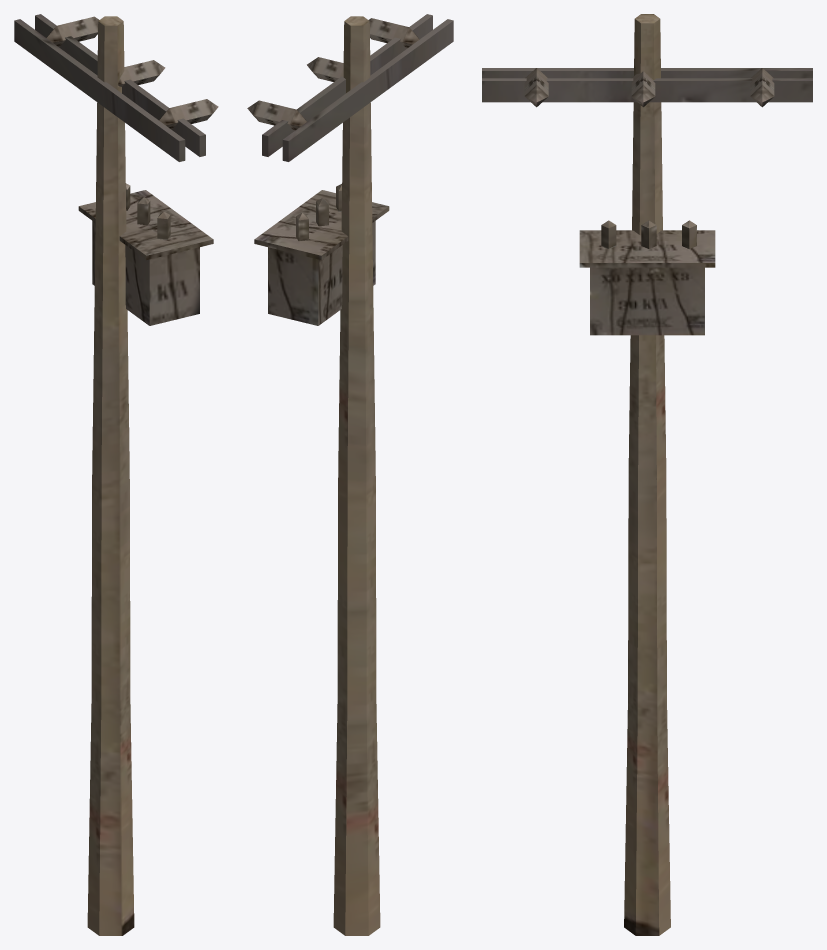
File: lamppost.glb
3 views of the same model, side by side, from view 1: azimuth 30°, elevation 25°; view 2: azimuth 150°, elevation 25°; view 3: azimuth 270°, elevation 25° (orthographic).
Parts seen in each view (by area): view 1: Lamppost; view 2: Lamppost; view 3: Lamppost.
Part boxes in pixels (left/top/right/bottom): Lamppost: left=14, top=14, right=218, bottom=935; Lamppost: left=247, top=14, right=453, bottom=935; Lamppost: left=482, top=14, right=812, bottom=935.
Size of the model in its own units: 1.05 by 10.52 by 3.47.
Materials: 1 (1 with a texture image).
